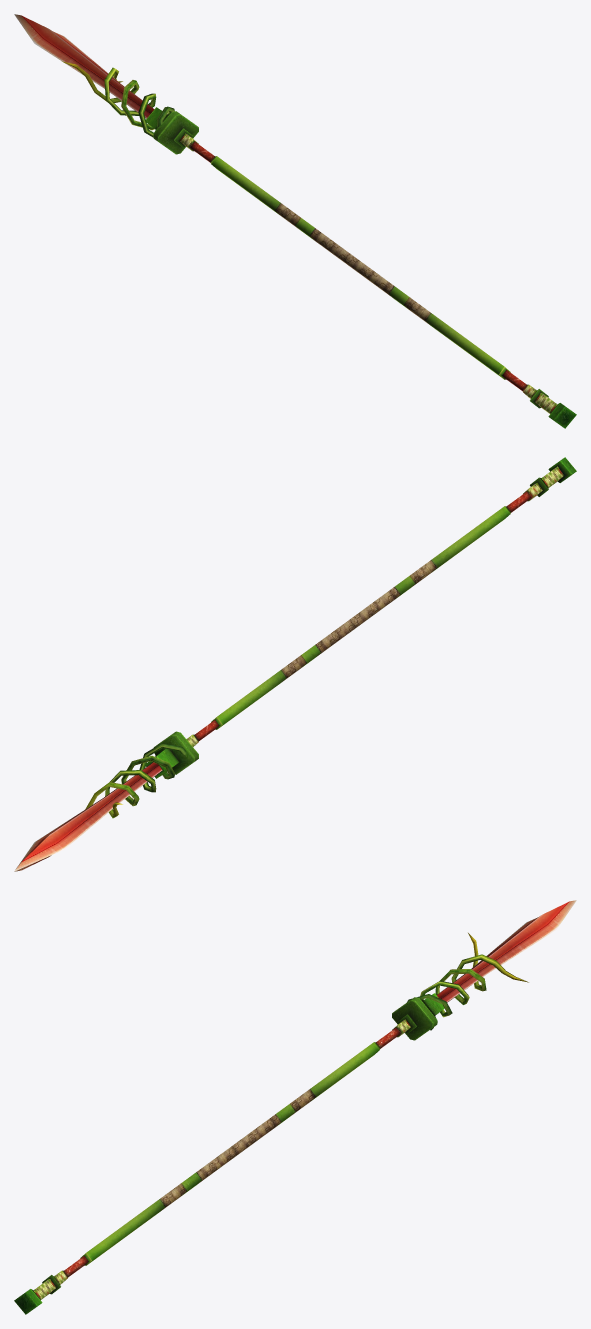
The model's file is spear_spear_1_spear_1.glb.
The picture shows the model from 3 angles, top to bottom: view 1: azimuth 30°, elevation 25°; view 2: azimuth 150°, elevation 25°; view 3: azimuth 330°, elevation 25°; orthographic projection.
Size of the model in its own units: 0.1964 by 0.1172 by 3.02.
Materials: 1 (1 with a texture image).
